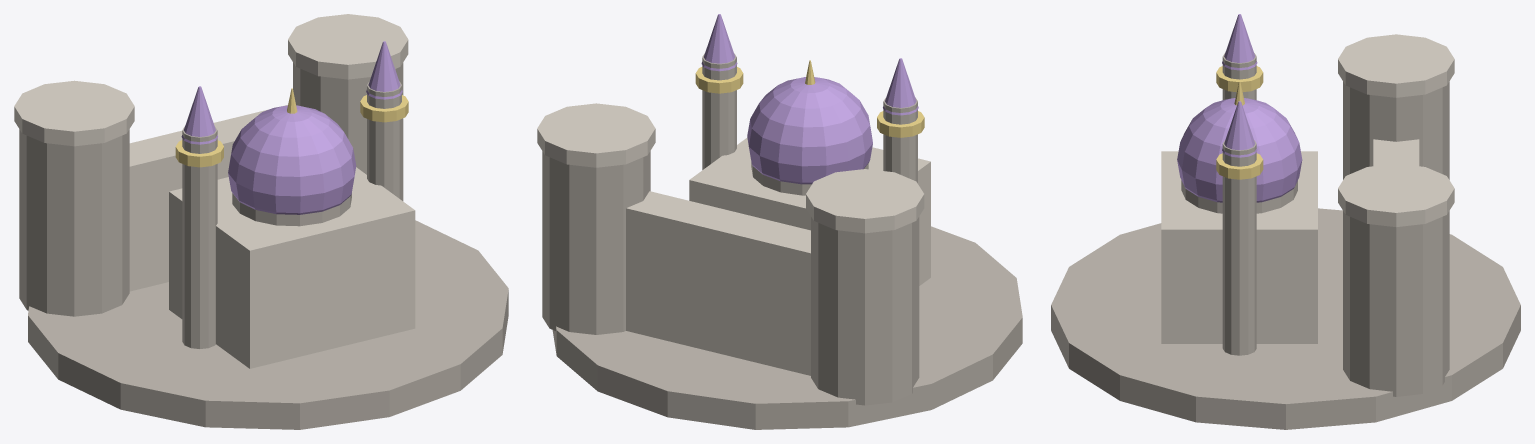
Rendered from city_shusha.glb.
The picture shows the model from 3 angles, left to right: view 1: azimuth 30°, elevation 25°; view 2: azimuth 150°, elevation 25°; view 3: azimuth 270°, elevation 25°; orthographic projection. The views are drawn at different scales.
Visible parts, largest first — view 1: PlateauBase, MosqueBody, Bastion_-2.15, MosqueDome, FortressWall, Minaret_-1.45, BastionCap_-2.15, BastionCap_2.15, Bastion_2.15, Minaret_1.45, MosqueDrum, MinaretSpire_1.45 (+3 smaller); view 2: PlateauBase, FortressWall, Bastion_-2.15, Bastion_2.15, MosqueDome, MosqueBody, BastionCap_-2.15, BastionCap_2.15, Minaret_1.45, Minaret_-1.45, MinaretSpire_-1.45, MinaretSpire_1.45 (+3 smaller); view 3: PlateauBase, MosqueBody, Bastion_2.15, MosqueDome, Bastion_-2.15, Minaret_1.45, BastionCap_-2.15, BastionCap_2.15, FortressWall, MinaretSpire_-1.45, MinaretSpire_1.45, MosqueDrum (+3 smaller).
Boxes of the visible parts, x1,y1,x2,y2 form: PlateauBase: (28,220,508,429); MosqueBody: (169,167,415,368); Bastion_-2.15: (19,129,129,316); MosqueDome: (228,105,356,214); FortressWall: (129,105,287,291); Minaret_-1.45: (182,126,217,348); BastionCap_-2.15: (14,80,134,146); BastionCap_2.15: (288,14,408,79); Bastion_2.15: (293,62,403,200); Minaret_1.45: (367,81,401,200); MosqueDrum: (232,193,351,226); MinaretSpire_1.45: (366,41,402,99); PlateauBase: (552,226,1022,429); FortressWall: (626,191,810,375); Bastion_-2.15: (811,216,919,405); Bastion_2.15: (542,151,650,334); MosqueDome: (747,77,872,184); MosqueBody: (689,138,930,285); BastionCap_-2.15: (806,169,924,233); BastionCap_2.15: (537,103,655,167); Minaret_1.45: (702,53,736,169); Minaret_-1.45: (883,97,917,183); MinaretSpire_-1.45: (883,58,918,115); MinaretSpire_1.45: (701,14,737,71); PlateauBase: (1051,208,1520,429); MosqueBody: (1161,151,1317,343); Bastion_2.15: (1343,211,1449,396); MosqueDome: (1177,98,1302,202); Bastion_-2.15: (1343,81,1449,179); Minaret_1.45: (1222,140,1256,355); BastionCap_-2.15: (1338,34,1454,97); BastionCap_2.15: (1338,163,1454,227); FortressWall: (1373,139,1419,166); MinaretSpire_-1.45: (1222,14,1257,70); MinaretSpire_1.45: (1222,101,1257,157); MosqueDrum: (1181,180,1297,213).
Bounding box in the file's own units: 6.6 × 4.22 × 6.6.
